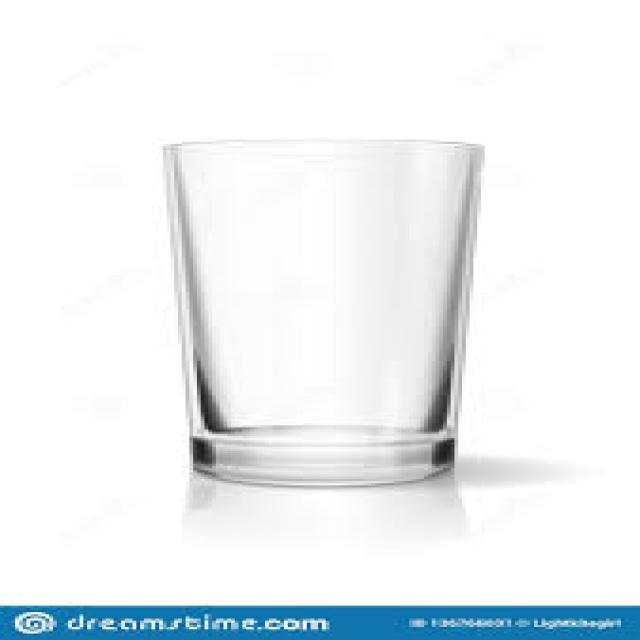glass: (163, 138, 477, 481)
